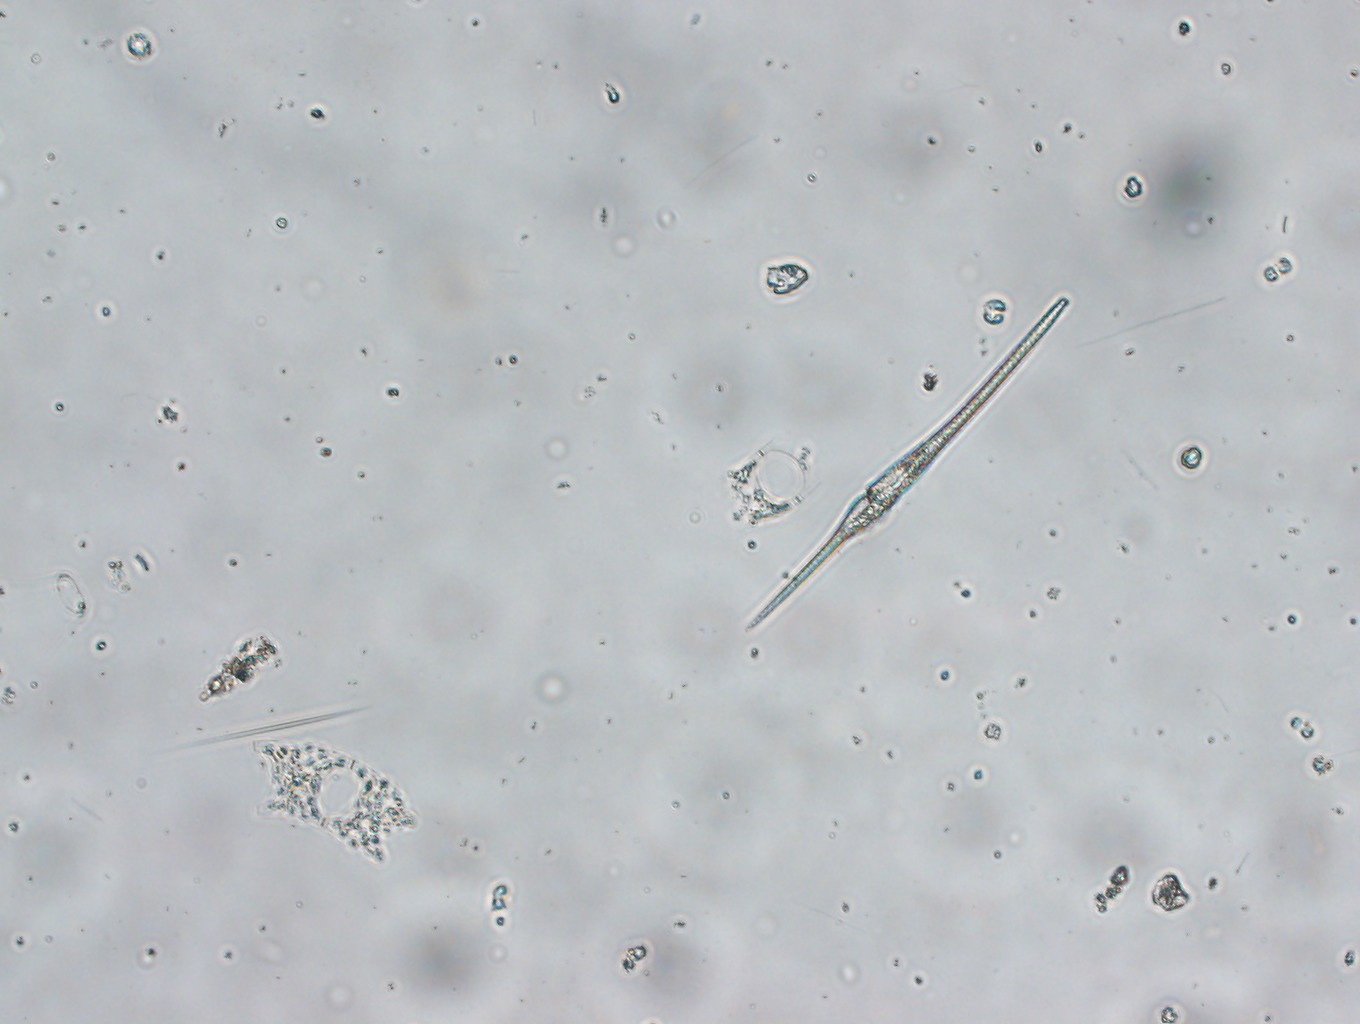ceratium fusus: (742, 291, 1076, 630)
